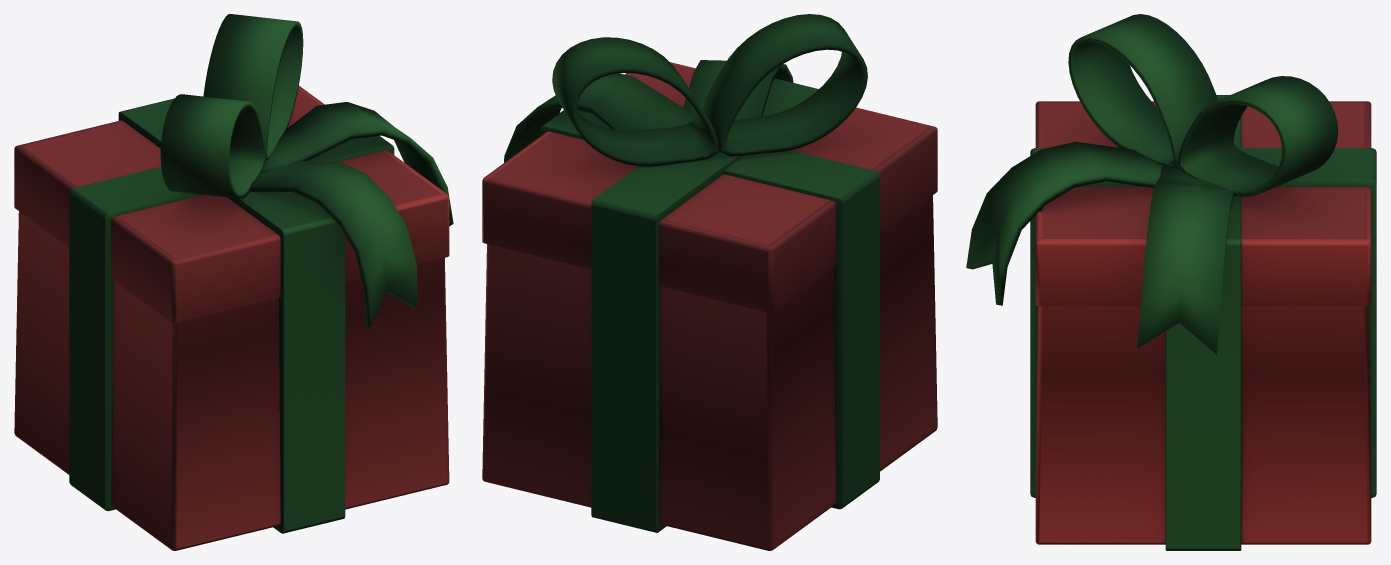
The model's file is Kotak_Kado.fbx.
3 renders of one model, left to right at view 1: azimuth 30°, elevation 25°; view 2: azimuth 150°, elevation 25°; view 3: azimuth 270°, elevation 25°, orthographic. The views are drawn at different scales.
Parts seen in each view (by area): view 1: Cube.001; view 2: Cube.001; view 3: Cube.001.
Boxes of the visible parts, x1,y1,x2,y2 form: Cube.001: [14, 14, 453, 550]; Cube.001: [482, 14, 937, 550]; Cube.001: [966, 14, 1376, 550].
Bounding box in the file's own units: 203 × 232 × 204.
1 material, 1 textured.
